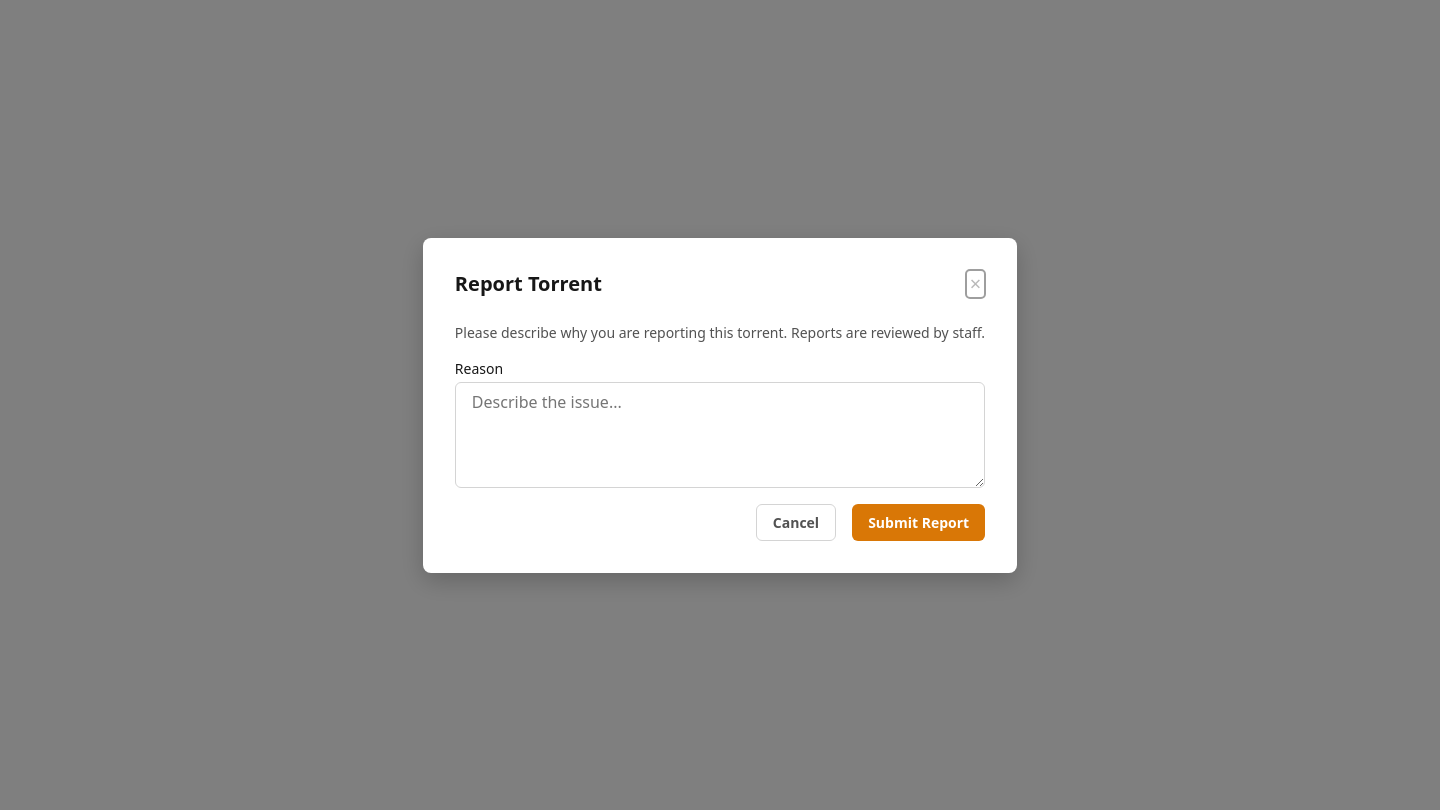
ReportModal › shows generic error for non-Error rejection
The width and height of the screenshot is (1440, 810).
Type "Bad torrent" into the text box labelled "Reason" at (720, 434), box x1=455 y1=382 x2=985 y2=488
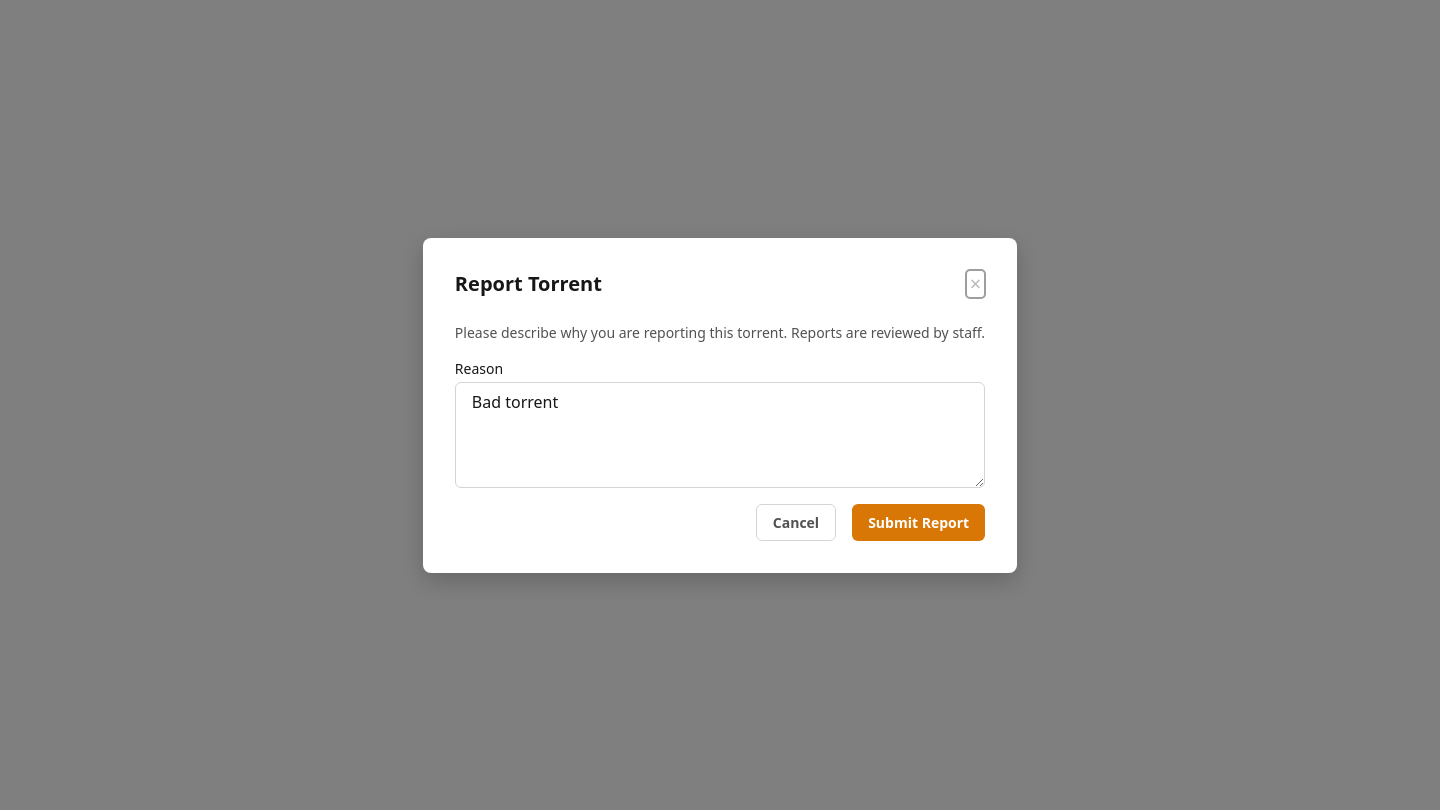
Click the button "Submit Report" at (919, 522), box x1=852 y1=504 x2=985 y2=540
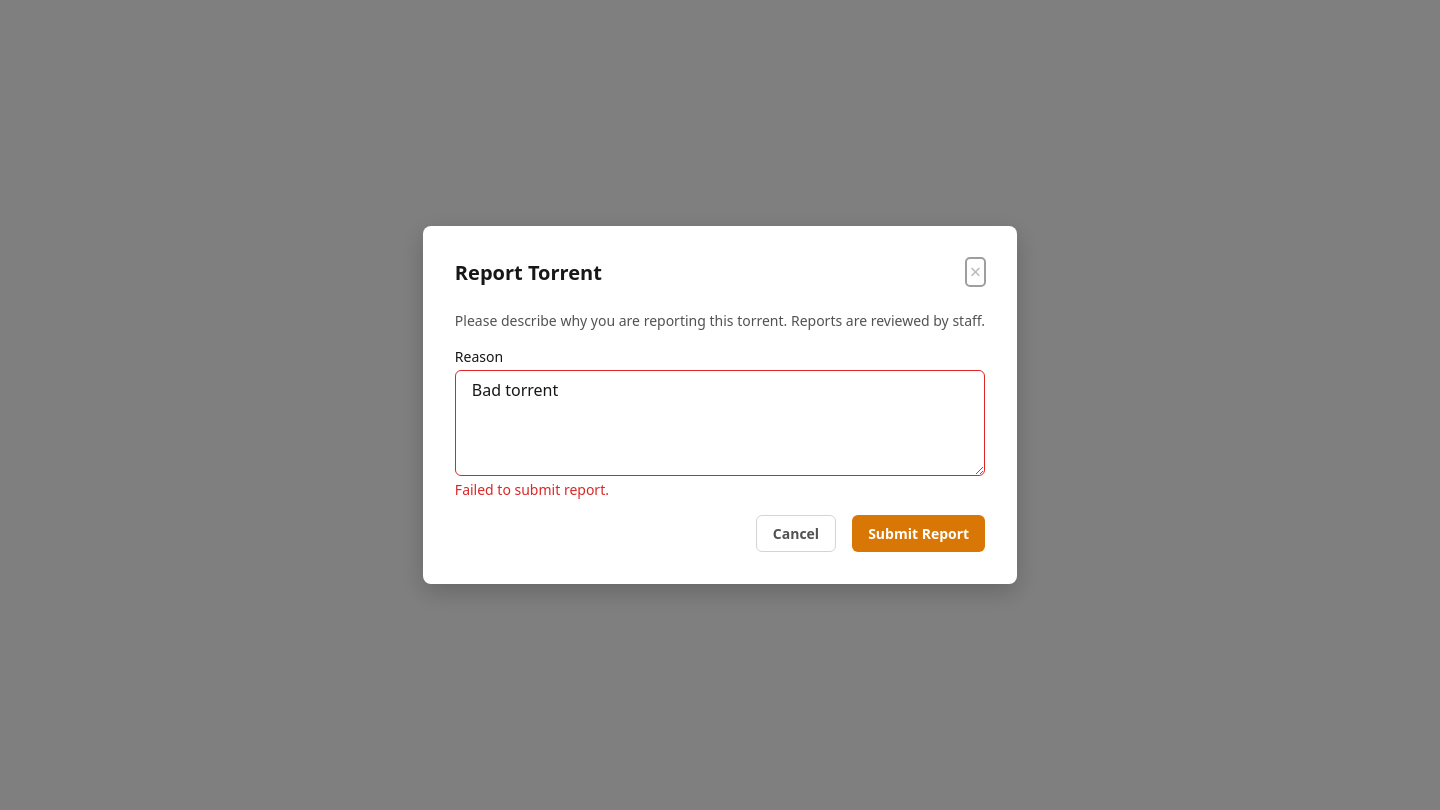
Expected: the text "Failed to submit report." is shown, x1=455 y1=480 x2=609 y2=499
